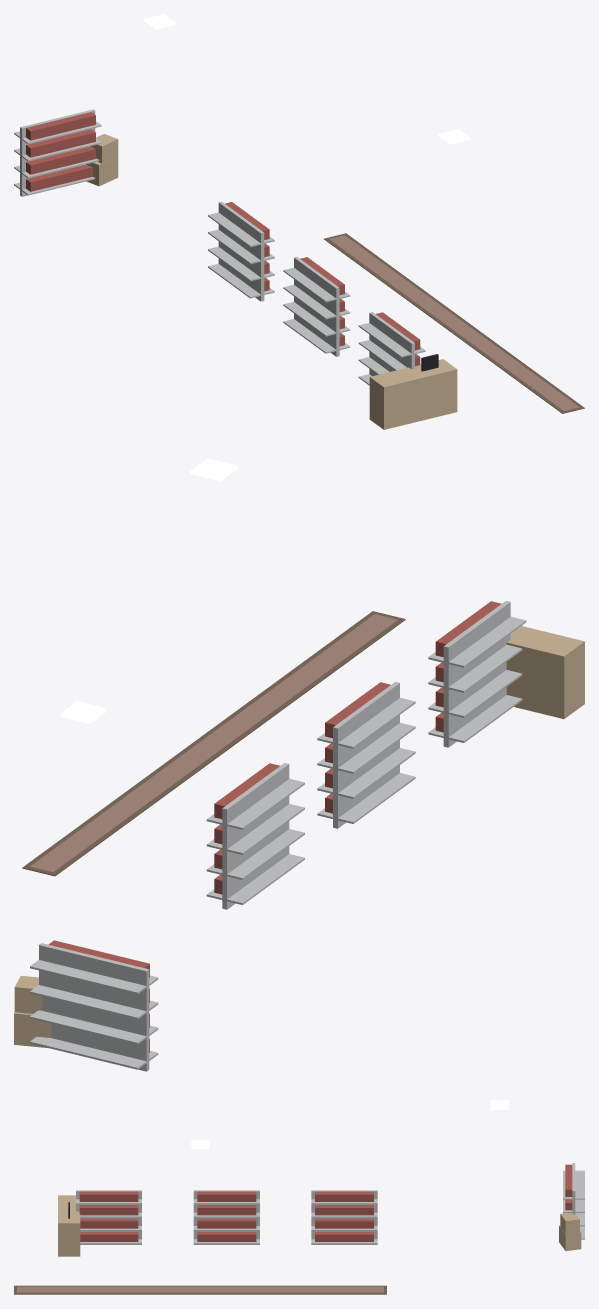
Rendered from fine-s0.glb.
The picture shows the model from 3 angles, top to bottom: view 1: azimuth 30°, elevation 25°; view 2: azimuth 150°, elevation 25°; view 3: azimuth 270°, elevation 25°; orthographic projection. The views are drawn at different scales.
Visible parts, largest first — view 1: soft-s0, shelving.000, shop-counter.000, shelf.000, shelf.001, shelf.002, cardboard-box.000; view 2: shelving.000, soft-s0, shelf.000, shelf.001, shelf.002, shop-counter.000, cardboard-box.000; view 3: soft-s0, shelf.000, shelf.001, shelf.002, shop-counter.000, shelving.000, cardboard-box.000.
Boxes of the visible parts, x1=… form: soft-s0: x1=324, y1=233, x2=584, y2=413; shelving.000: x1=14, y1=109, x2=101, y2=196; shop-counter.000: x1=369, y1=354, x2=457, y2=429; shelf.000: x1=208, y1=201, x2=274, y2=301; shelf.001: x1=283, y1=257, x2=350, y2=356; shelf.002: x1=358, y1=312, x2=425, y2=385; cardboard-box.000: x1=86, y1=134, x2=118, y2=186; shelving.000: x1=30, y1=940, x2=158, y2=1071; soft-s0: x1=22, y1=611, x2=405, y2=876; shelf.000: x1=206, y1=763, x2=304, y2=909; shelf.001: x1=317, y1=682, x2=415, y2=828; shelf.002: x1=428, y1=601, x2=526, y2=747; shop-counter.000: x1=506, y1=626, x2=584, y2=718; cardboard-box.000: x1=14, y1=975, x2=51, y2=1048; soft-s0: x1=14, y1=1285, x2=386, y2=1294; shelf.000: x1=311, y1=1190, x2=377, y2=1244; shelf.001: x1=193, y1=1190, x2=259, y2=1244; shelf.002: x1=76, y1=1190, x2=141, y2=1244; shop-counter.000: x1=58, y1=1195, x2=80, y2=1256; shelving.000: x1=563, y1=1163, x2=584, y2=1239; cardboard-box.000: x1=559, y1=1213, x2=581, y2=1250.
Bounding box in the file's own units: 5.03 × 4.4 × 15.52.
